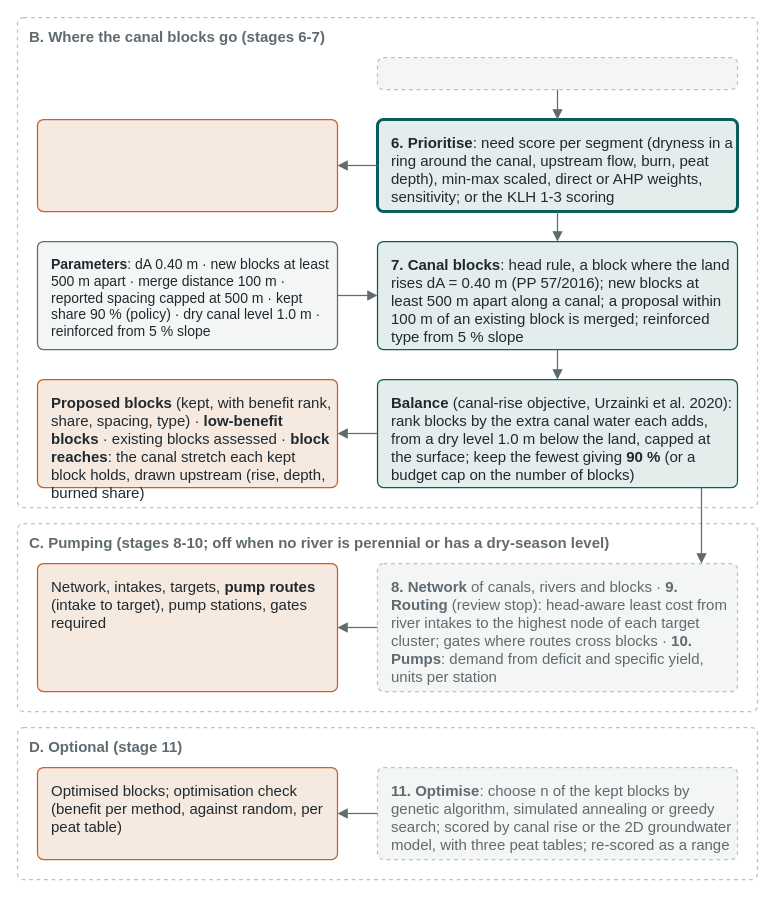
This 776x898 diagram has some shape labels left out. The centre of each missing label's shape, as x and y in pixels:
"4-5. Segments and profiles" belongs at (x=557, y=73).
"Canal segments with need score and rank; sensitivity check" belongs at (x=187, y=165).
